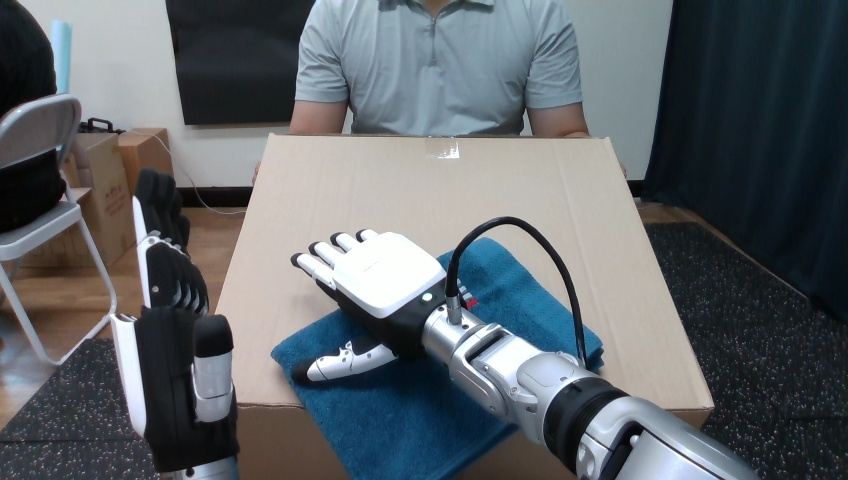left robot hand: (292, 216, 756, 479), (457, 224, 578, 356)
